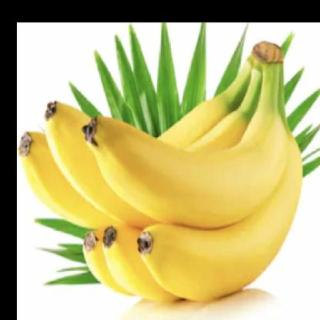banana: (42, 68, 270, 241), (83, 118, 283, 300), (102, 114, 287, 304), (19, 91, 241, 236), (135, 127, 305, 303), (84, 102, 290, 231)
